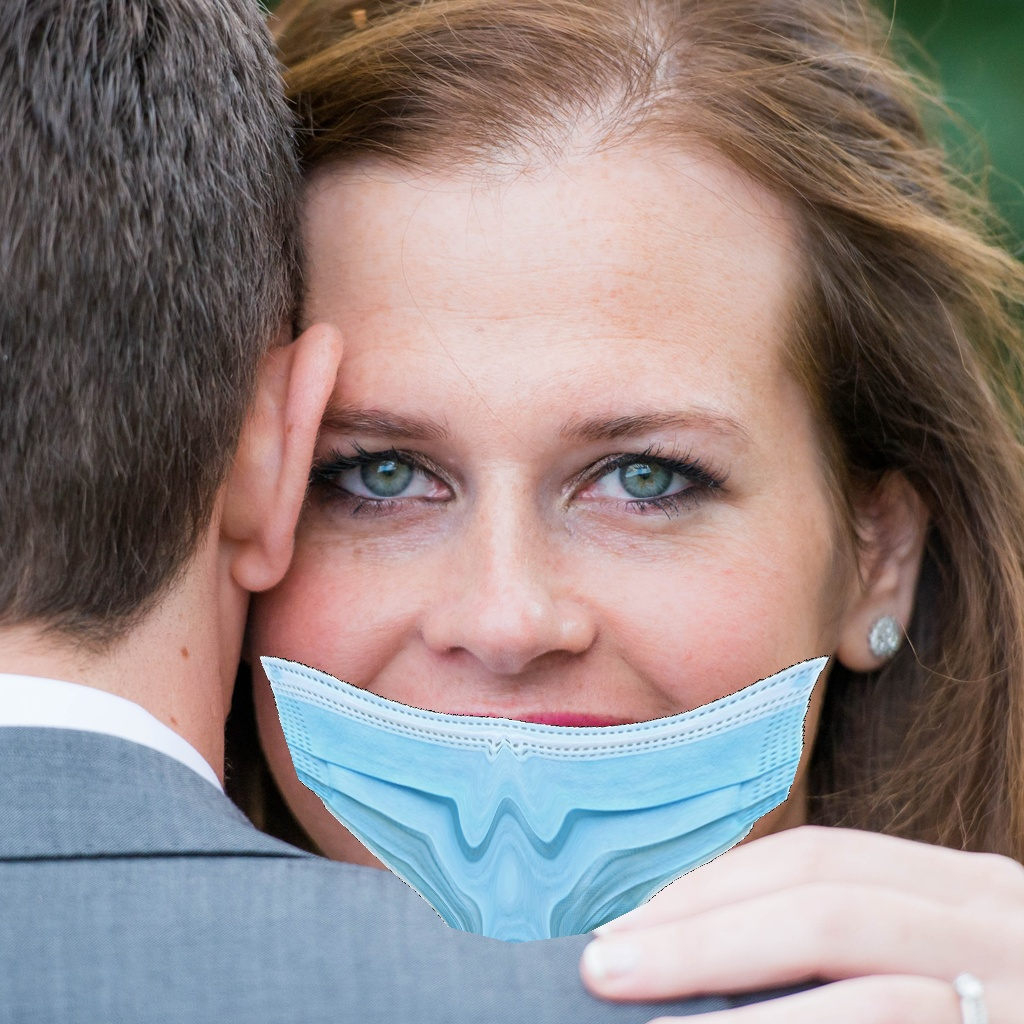mascarilla_mal_puesta: (242, 428, 899, 1018)
